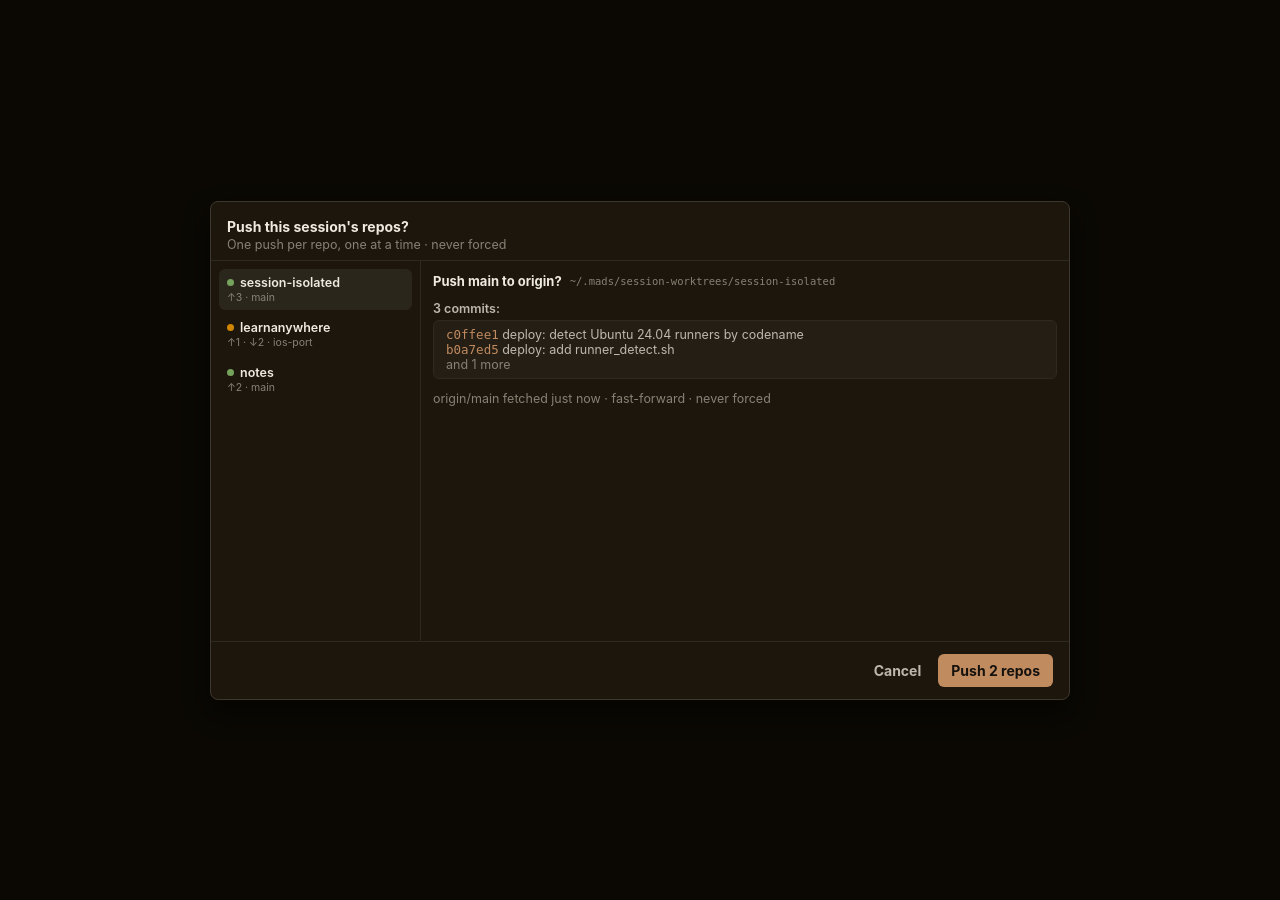
Scenario: PushDialog — several repos (D5 "Several repos", layout B) › leaves a repo that's behind out until its own rebase box is ticked
Expected: the button "Push 2 repos" is shown, [938, 654, 1053, 686]
Click the button "learnanywhere ↑1 · ↓2 · ios-port": (316, 334) [219, 314, 412, 354]
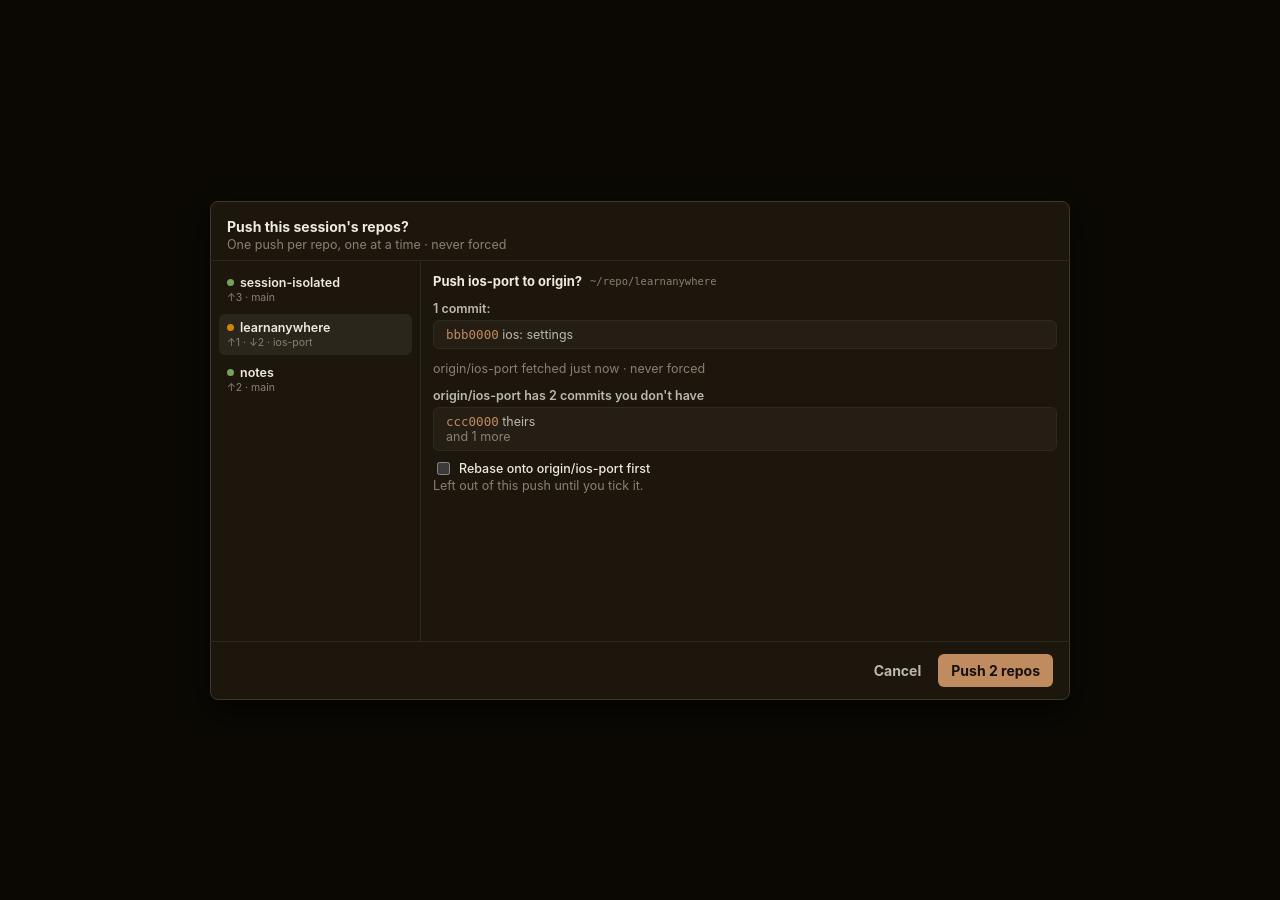
Expected: the text "origin/ios-port has 2 commits you don't have" is shown, [433, 388, 704, 402]
Expected: the text "Left out of this push until you tick it." is shown, [433, 478, 643, 492]
Click the checkbox labelled "Rebase onto origin/ios-port first": (444, 468) [437, 462, 450, 474]
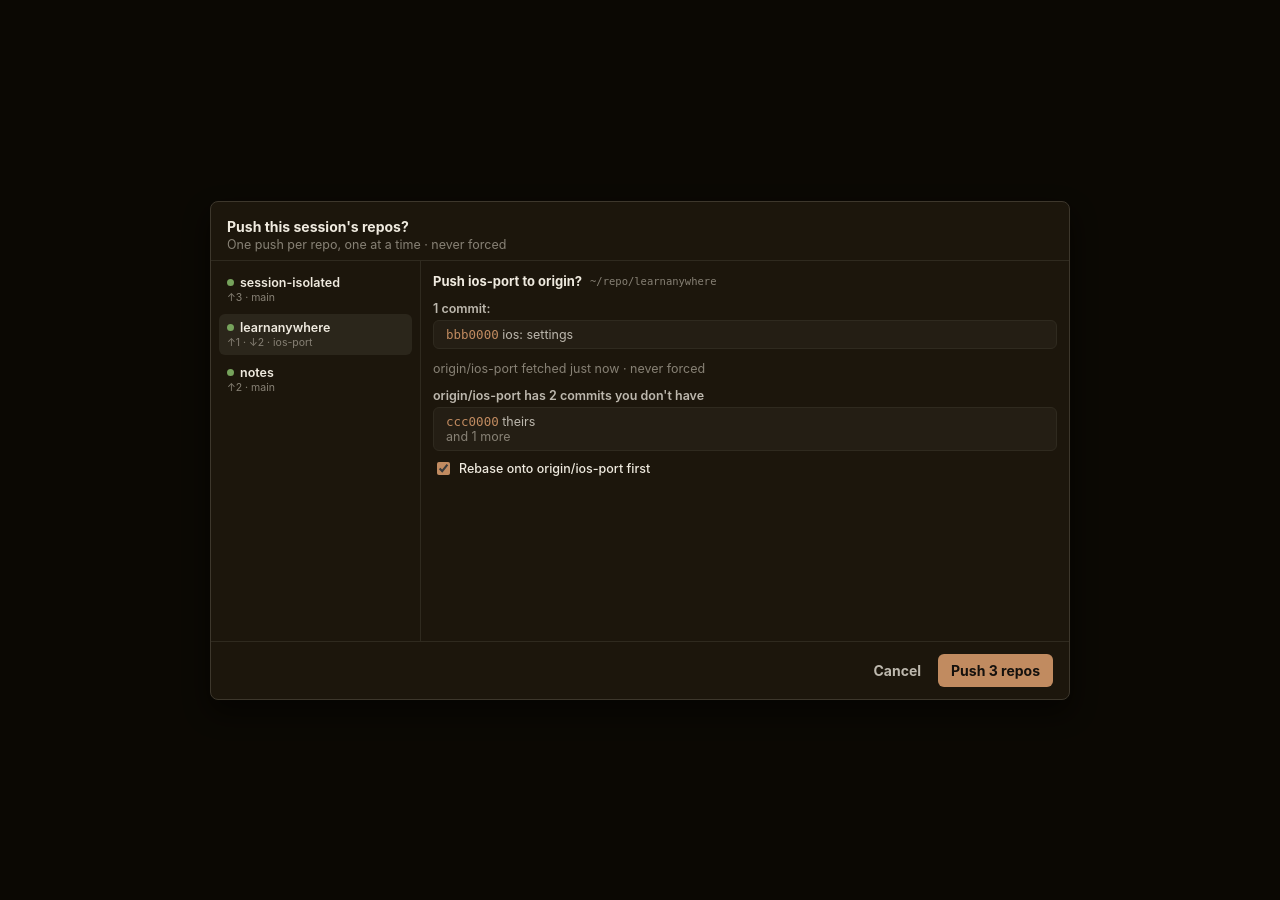
Expected: the button "Push 3 repos" is shown, [938, 654, 1053, 686]
